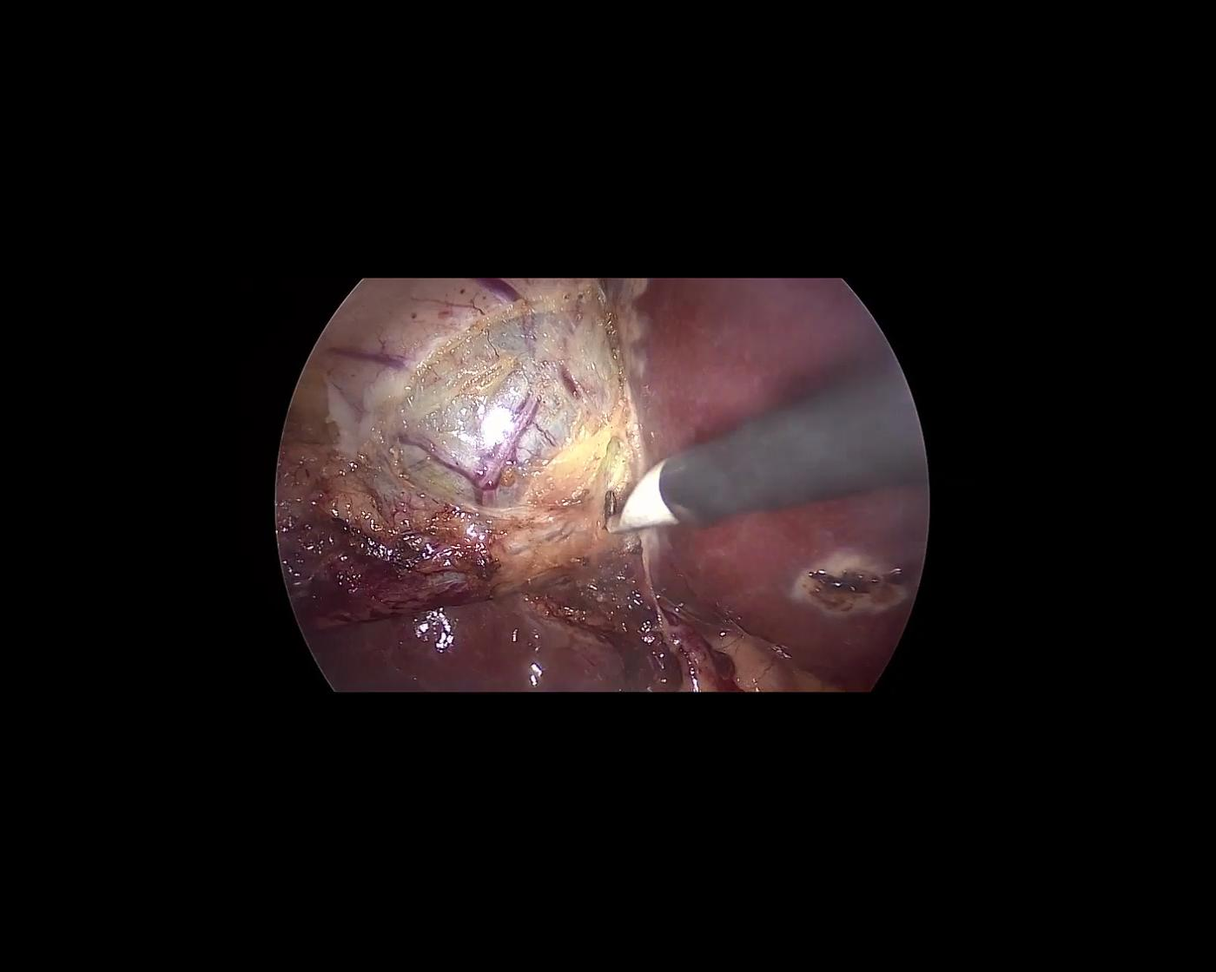Cautery: (589, 365, 928, 535)
Gallbladder: (237, 240, 652, 633)
Liver: (632, 279, 928, 694), (307, 597, 624, 690)
